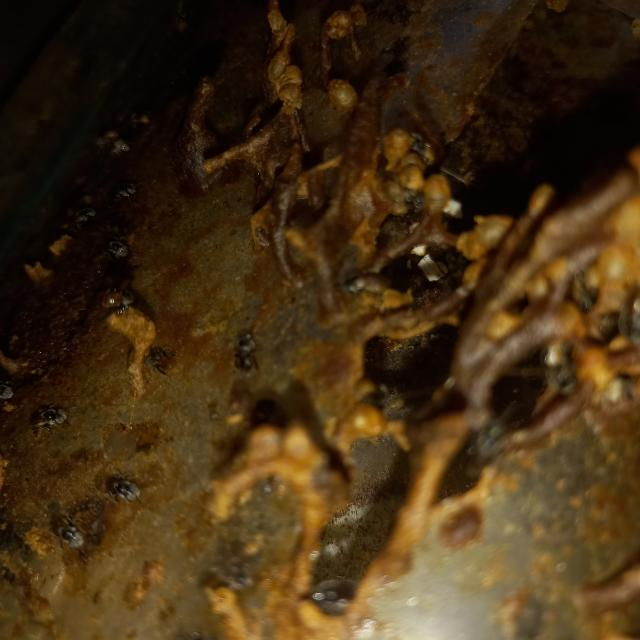honeybee: (28, 398, 78, 435), (106, 472, 157, 508), (48, 509, 88, 547), (234, 327, 262, 375), (97, 129, 131, 158), (106, 181, 138, 210), (63, 204, 100, 226), (103, 240, 135, 262)
